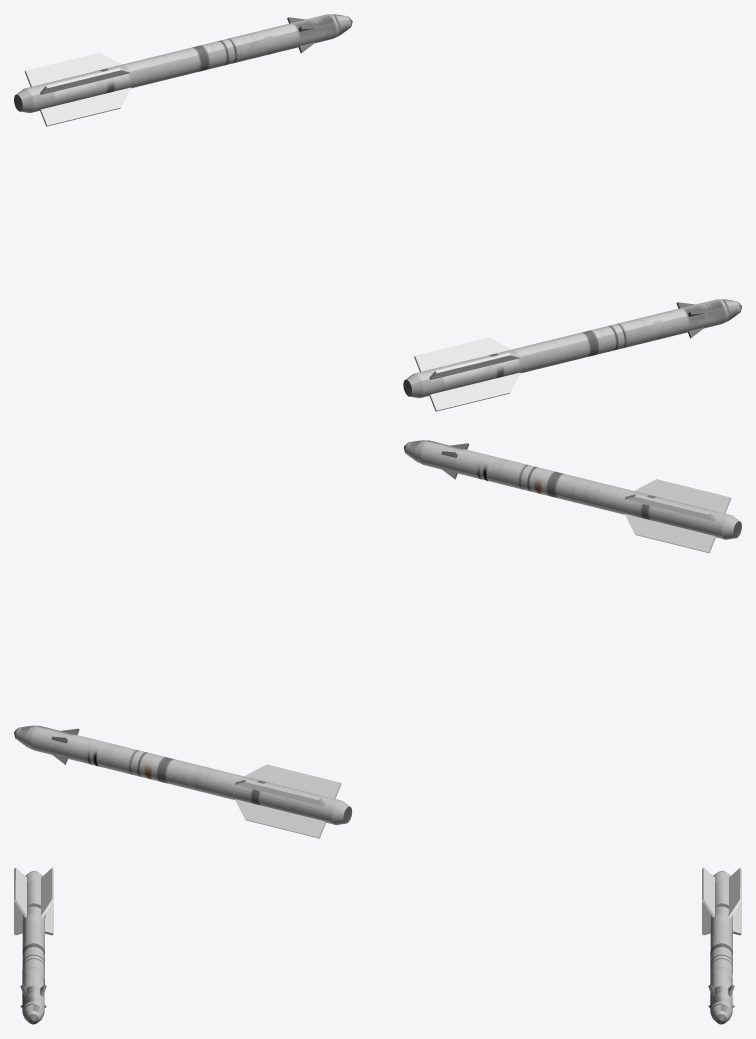
3 renders of one model, top to bottom at view 1: azimuth 30°, elevation 25°; view 2: azimuth 150°, elevation 25°; view 3: azimuth 270°, elevation 25°, orthographic. The views are drawn at different scales.
Visible parts, largest first — view 1: 円柱.024, 円柱.023; view 2: 円柱.024, 円柱.023; view 3: 円柱.024, 円柱.023.
Boxes of the visible parts, x1,y1,x2,y2 form: 円柱.024: (14, 14, 352, 126); 円柱.023: (403, 299, 741, 411); 円柱.024: (14, 725, 352, 838); 円柱.023: (404, 440, 741, 553); 円柱.024: (702, 867, 741, 1024); 円柱.023: (14, 867, 53, 1024).
Size of the model in its own units: 3.52 by 0.4148 by 7.53.
2 materials, 1 textured.
